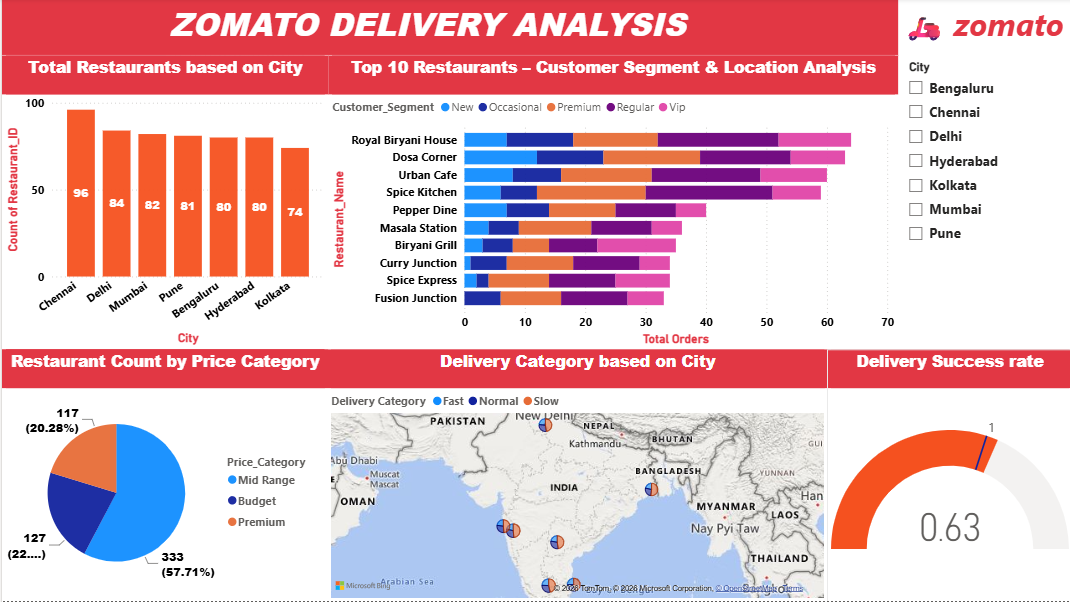

The page's visual inventory and layout, read from the dashboard file:
{"tool":"powerbi","page":{"name":"Page 3","canvas":[1280,720],"ordinal":2},"visuals":[{"type":"textbox","box":[0,0,1070.2,68.1],"z":0},{"type":"textbox","box":[1069.9,0,210.1,68.1],"z":1000},{"type":"columnChart","title":"Total  Restaurants based on  City","fields":{"Category":["Categories_Location_2.City"],"Y":["CountNonNull(Categories_Location_2.Restaurant_ID)"]},"box":[0,68.6,389.5,350.7],"z":2000},{"type":"pieChart","title":"Restaurant Count by Price Category","fields":{"Category":["Categories_Location_2.Price_Category"],"Y":["CountNonNull(Categories_Location_2.Restaurant_ID)"]},"box":[0,419.3,389.5,301.4],"z":3000},{"type":"barChart","title":"Top 10 Restaurants – Customer Segment & Location Analysis","fields":{"Category":["Restaurants__2.Restaurant_Name"],"Y":["Orders_2.Total Orders"],"Series":["Customers_2.Customer_Segment"]},"box":[389.7,68.6,680.6,351.3],"z":4000},{"type":"slicer","fields":{"Values":["Restaurants__2.City"]},"box":[1070.3,68.6,209.9,300.5],"z":5000},{"type":"map","title":"Delivery Category based on City","fields":{"Category":["Restaurants__2.City"],"Series":["Orders_2.Delivery Category"],"Size":["CountNonNull(Orders_2.Delivery Category)"]},"box":[388,419.3,598.4,301.4],"z":6000},{"type":"gauge","title":"Delivery Success rate","fields":{"Y":["Orders_2.Delivery Success rate"],"TargetValue":["Orders_2.Delivery Success Target"],"MinValue":["Orders_2.Min Value"],"MaxValue":["Orders_2.Max value"]},"box":[984.8,418.6,294,301.4],"z":6001}]}

Visuals, with their boxes in screenshot pixels (x1, y1, x2, y2), scaled from the page's 1280x720 canvas onto the 1070x602 screenshot:
textbox: box=[0, 0, 895, 57]
textbox: box=[894, 0, 1069, 57]
"Total  Restaurants based on  City" columnChart: box=[0, 57, 326, 351]
"Restaurant Count by Price Category" pieChart: box=[0, 351, 326, 601]
"Top 10 Restaurants – Customer Segment & Location Analysis" barChart: box=[326, 57, 895, 351]
slicer - Restaurants__2.City: box=[895, 57, 1069, 309]
"Delivery Category based on City" map: box=[324, 351, 825, 601]
"Delivery Success rate" gauge: box=[823, 350, 1069, 601]
